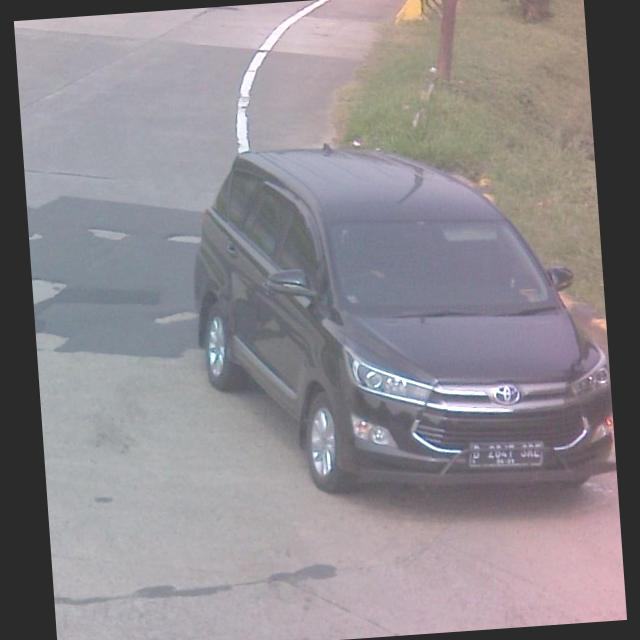plate: (468, 430, 550, 476)
